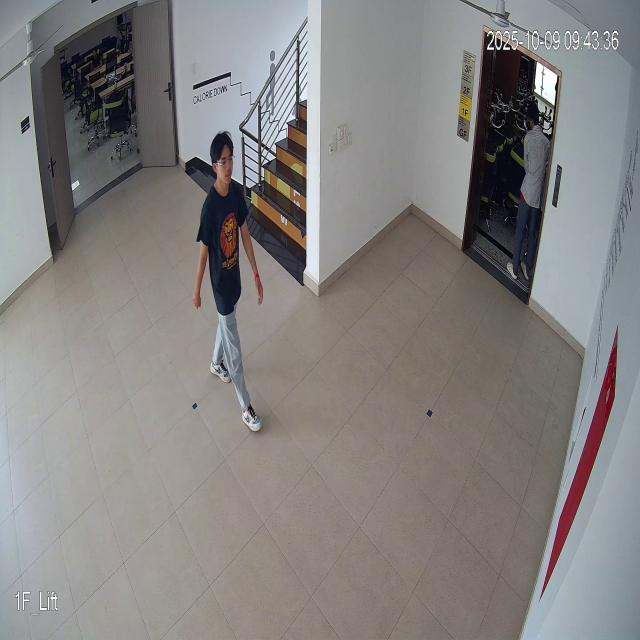face: (208, 132, 238, 189)
